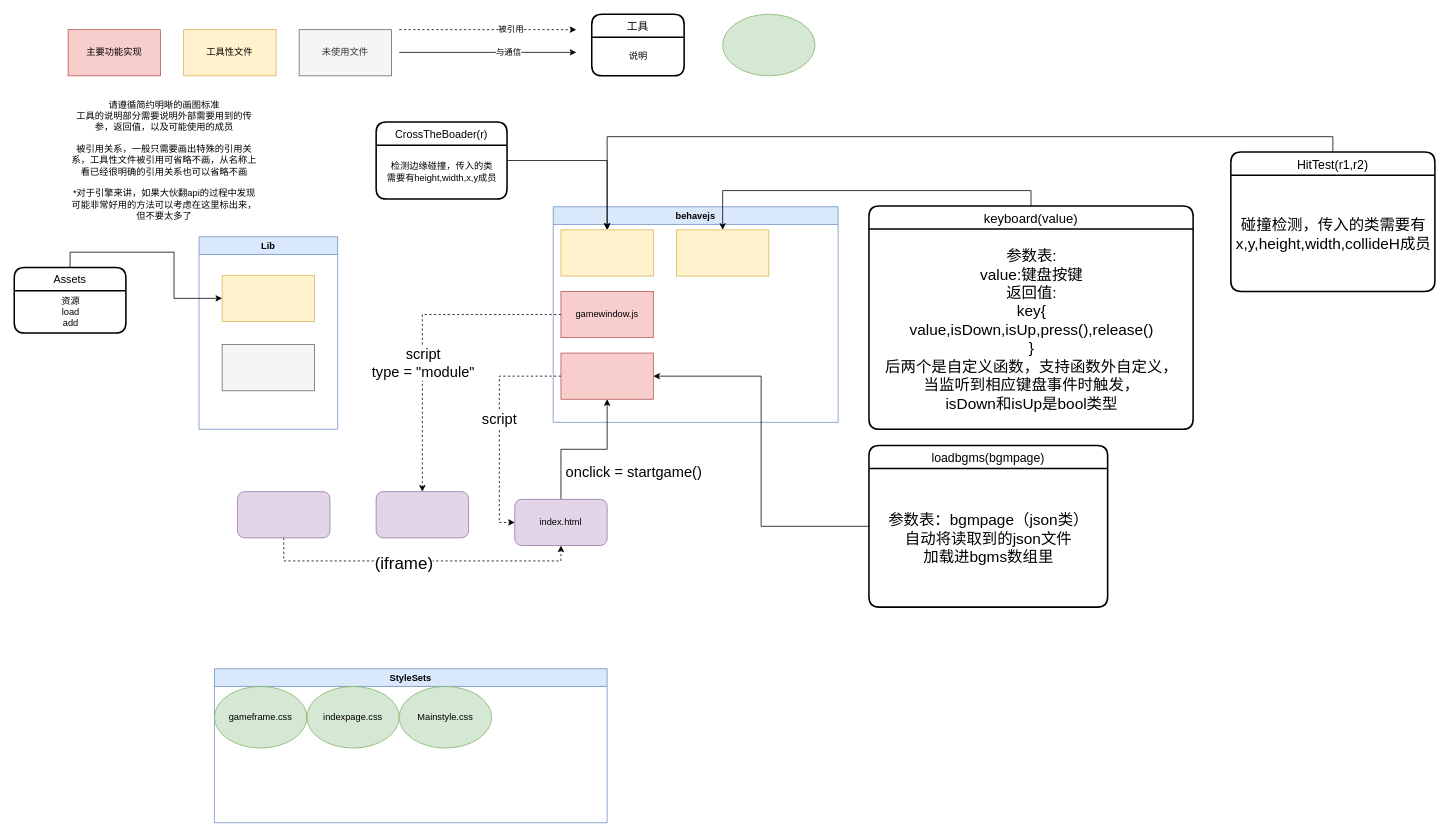
Image size: 1448x836. Some labels were removed from this diagram. Here are the shapes that lost their labels. From the top down, the centre of each, then its label:
point 768,44: css样式文件
point 606,252: collision.js
point 722,252: keyboard.js
point 268,298: rc.2_pixi.js
point 268,367: bump.js
point 606,375: indexpage.js
point 283,514: GameFrame.html
point 422,514: GameWindow.html
